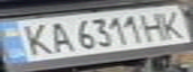1: (121, 12, 145, 44), (106, 12, 127, 46)
3: (90, 16, 112, 48)
6: (72, 16, 96, 51)
A: (42, 18, 75, 54)
H: (136, 9, 172, 42)
K: (12, 20, 57, 57), (154, 7, 190, 39)
